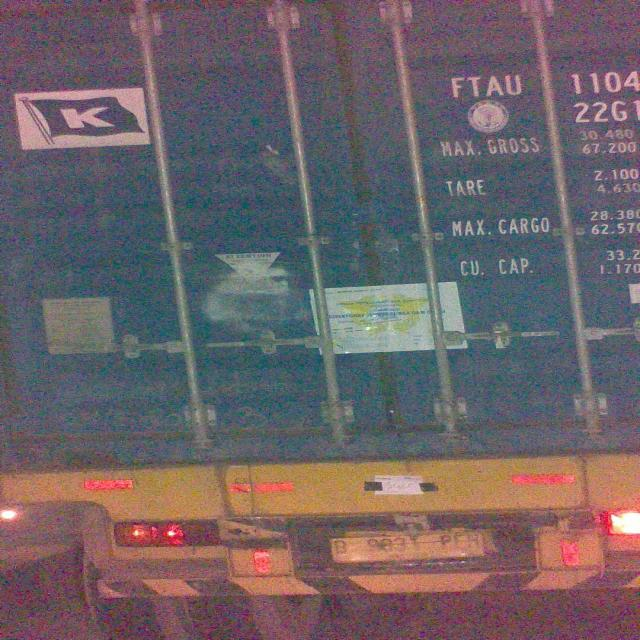seal: (491, 328, 514, 354)
